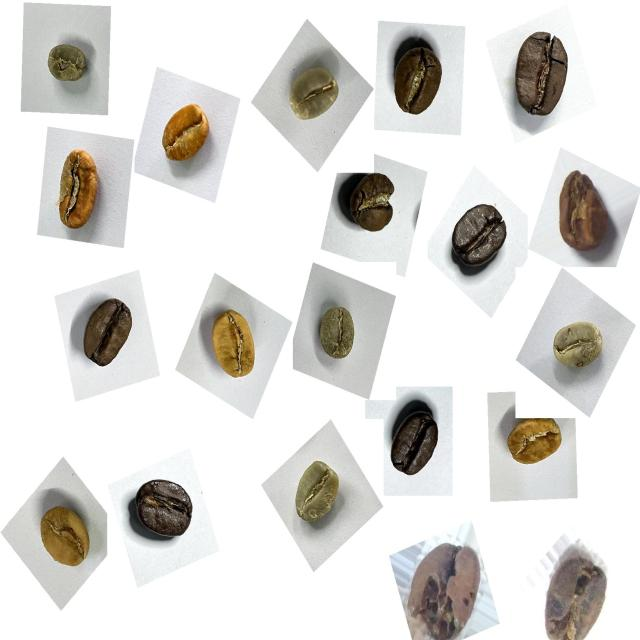bad: (393, 532, 488, 638), (534, 541, 622, 639), (546, 163, 619, 264)
dark: (124, 467, 204, 555), (442, 190, 514, 280), (383, 402, 451, 492)
green: (282, 450, 350, 539), (278, 54, 349, 138), (542, 308, 612, 385), (308, 296, 369, 374), (38, 35, 97, 98)
light: (46, 138, 110, 241), (200, 302, 268, 393), (30, 496, 100, 583), (154, 95, 223, 180), (502, 411, 573, 481)
medium: (497, 21, 580, 128), (380, 34, 456, 130), (72, 288, 144, 381), (338, 170, 403, 244)
